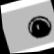correct: (21, 9, 54, 44)
